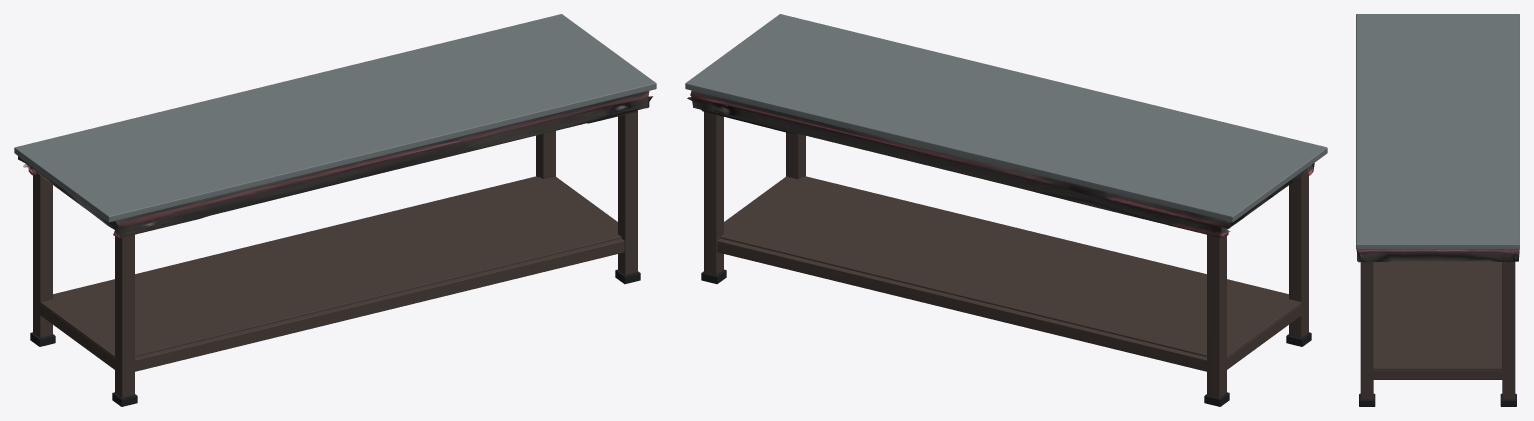
File: 23_workbench.glb
The picture shows the model from 3 angles, left to right: view 1: azimuth 30°, elevation 25°; view 2: azimuth 150°, elevation 25°; view 3: azimuth 270°, elevation 25°; orthographic projection. The views are drawn at different scales.
Parts seen in each view (by area): view 1: LOCAL_bench_solid_top, LOCAL_bench_solid_lower_shelf, TRIPO_RETAINED_WORKBENCH_UPPER_APRON, LOCAL_bench_long_rail.002, LOCAL_bench_square_leg.001, LOCAL_bench_square_leg.003, LOCAL_bench_square_leg, LOCAL_bench_end_rail, LOCAL_bench_long_rail, LOCAL_bench_square_leg.002; view 2: LOCAL_bench_solid_top, LOCAL_bench_solid_lower_shelf, TRIPO_RETAINED_WORKBENCH_UPPER_APRON, LOCAL_bench_long_rail, LOCAL_bench_square_leg, LOCAL_bench_square_leg.002, LOCAL_bench_square_leg.001, LOCAL_bench_long_rail.002, LOCAL_bench_end_rail, LOCAL_bench_square_leg.003; view 3: LOCAL_bench_solid_top, LOCAL_bench_solid_lower_shelf, TRIPO_RETAINED_WORKBENCH_UPPER_APRON, LOCAL_bench_square_leg.003, LOCAL_bench_square_leg.002, LOCAL_bench_end_rail.002, LOCAL_bench_level_foot.002, LOCAL_bench_level_foot.003.
Part boxes in pixels (x1,y1,x2,y2): LOCAL_bench_solid_top: (14,14,656,222); LOCAL_bench_solid_lower_shelf: (40,176,621,357); TRIPO_RETAINED_WORKBENCH_UPPER_APRON: (18,91,653,238); LOCAL_bench_long_rail.002: (135,238,624,371); LOCAL_bench_square_leg.001: (115,234,134,397); LOCAL_bench_square_leg.003: (618,110,637,275); LOCAL_bench_square_leg: (33,173,52,337); LOCAL_bench_end_rail: (36,302,118,371); LOCAL_bench_long_rail: (53,176,537,295); LOCAL_bench_square_leg.002: (536,131,555,179); LOCAL_bench_solid_top: (685,14,1327,222); LOCAL_bench_solid_lower_shelf: (720,176,1301,357); TRIPO_RETAINED_WORKBENCH_UPPER_APRON: (687,90,1314,238); LOCAL_bench_long_rail: (717,238,1206,371); LOCAL_bench_square_leg: (1207,235,1226,397); LOCAL_bench_square_leg.002: (704,112,723,275); LOCAL_bench_square_leg.001: (1289,174,1308,337); LOCAL_bench_long_rail.002: (804,176,1288,295); LOCAL_bench_end_rail: (1227,302,1305,369); LOCAL_bench_square_leg.003: (786,132,805,179); LOCAL_bench_solid_top: (1356,14,1519,249); LOCAL_bench_solid_lower_shelf: (1373,261,1502,369); TRIPO_RETAINED_WORKBENCH_UPPER_APRON: (1356,249,1519,262); LOCAL_bench_square_leg.003: (1360,262,1373,399); LOCAL_bench_square_leg.002: (1502,262,1515,399); LOCAL_bench_end_rail.002: (1367,370,1508,379); LOCAL_bench_level_foot.002: (1500,393,1516,406); LOCAL_bench_level_foot.003: (1359,393,1375,406).
Size of the model in its own units: 2.2 by 0.75 by 0.66.
4 materials, 1 textured.
